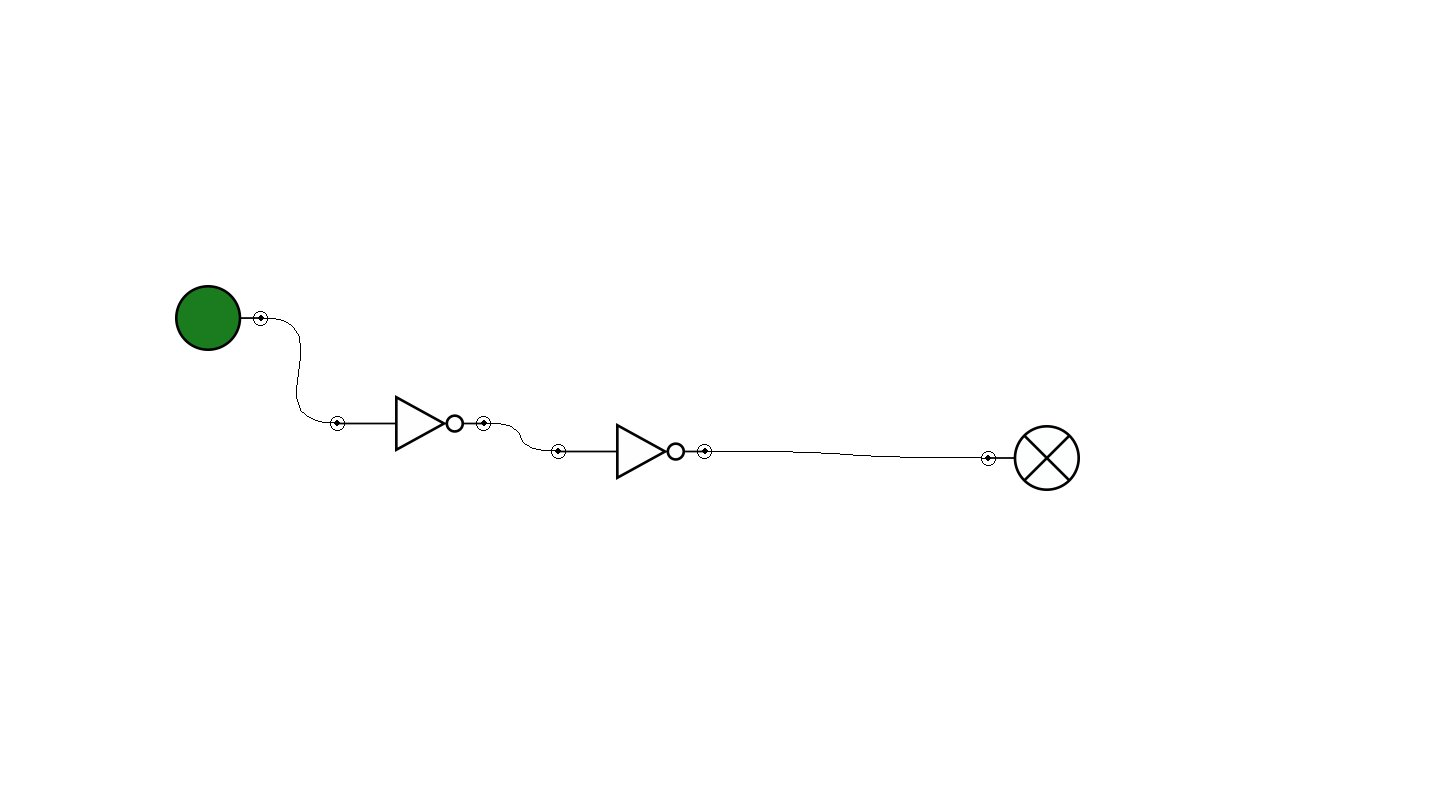bulb: (981, 425, 1080, 491)
not: (330, 395, 491, 452), (551, 423, 712, 480)
switch_True: (175, 285, 268, 351)
